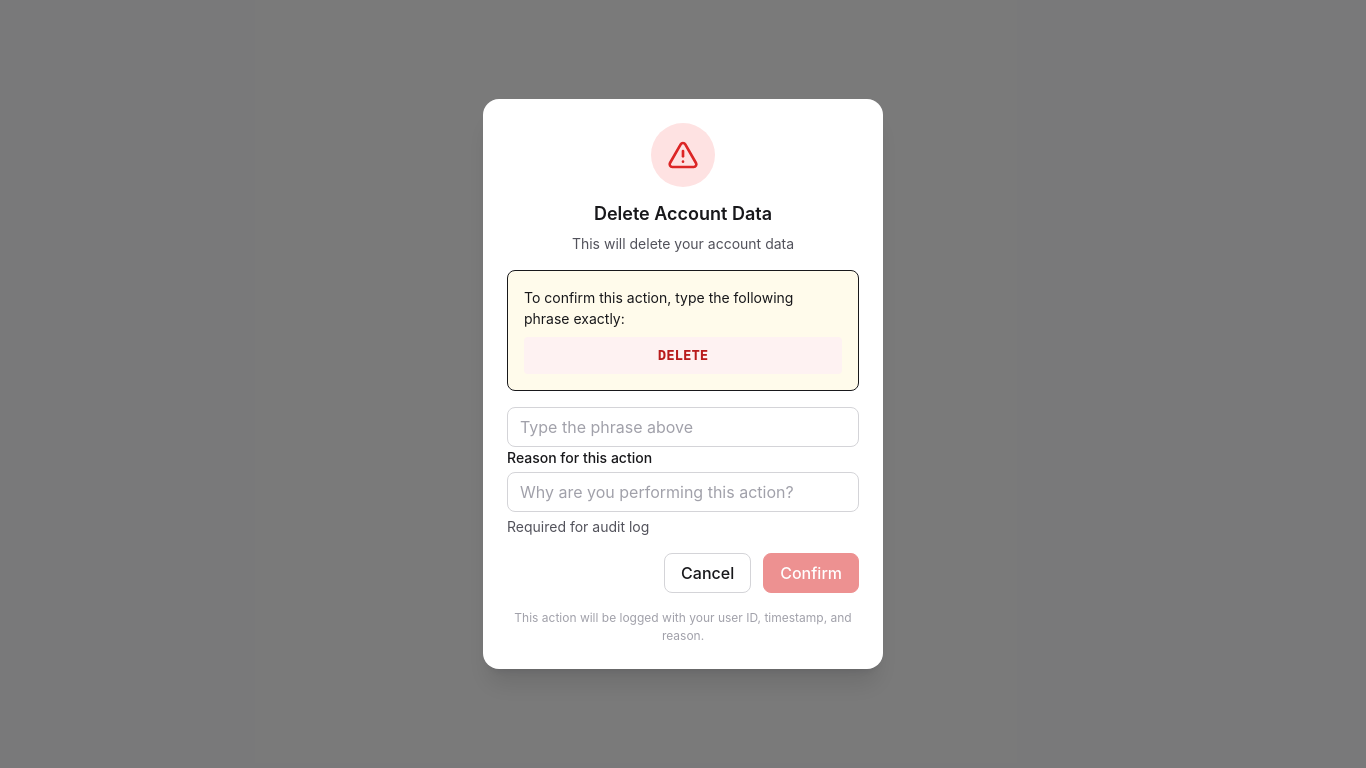
Test case: Sprint 12: Cleanup UI - Dangerous Operations › SCENARIO: User attempts to delete synced posts › should require reason for audit trail when performing dangerous action
# Type correct phrase but no reason
Step 1. Type "DELETE" into the field with placeholder "Type the phrase above" → (683, 427), box [507,407,859,447]
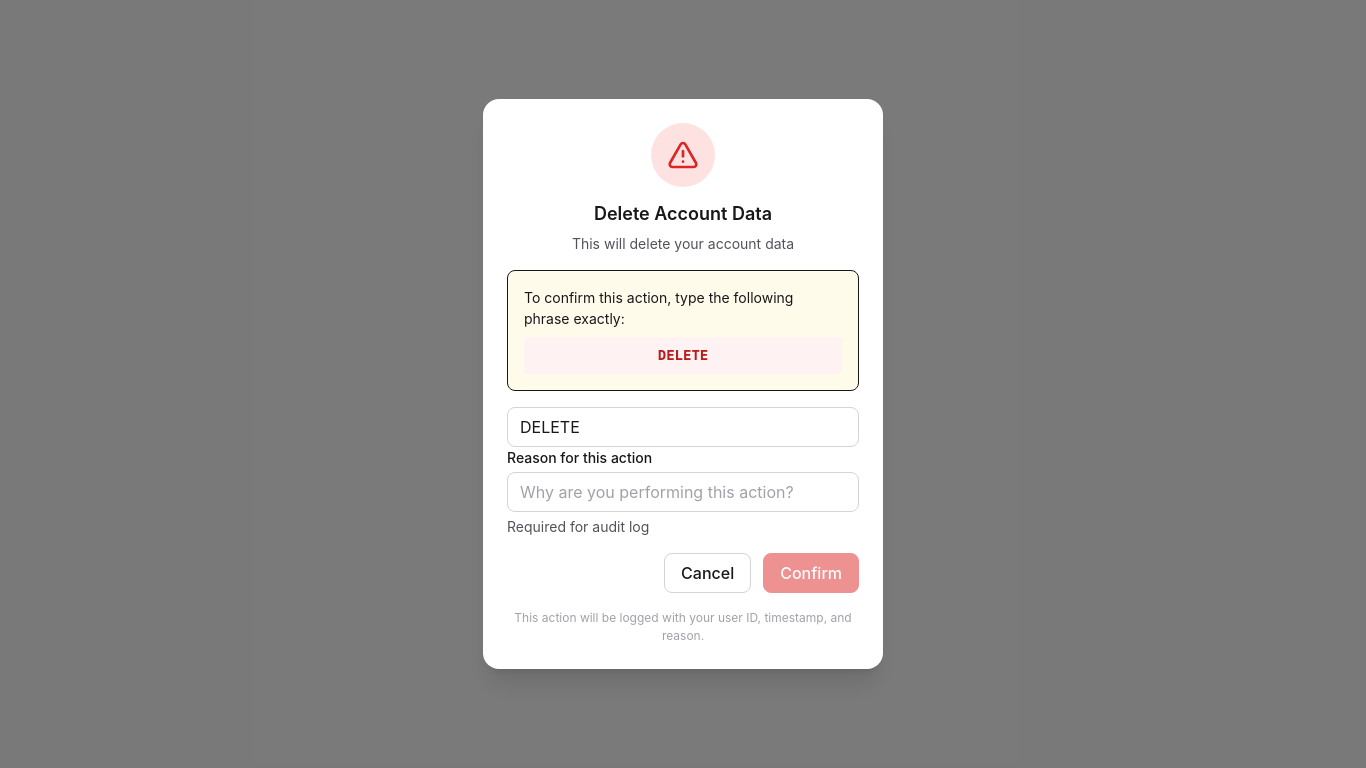
Expected: the button "Confirm" is disabled, [763,553,859,593]
# Add reason
Step 2. Type "Cleaning up test data" into the field with placeholder "Why are you performing this action?" → (683, 492), box [507,472,859,512]
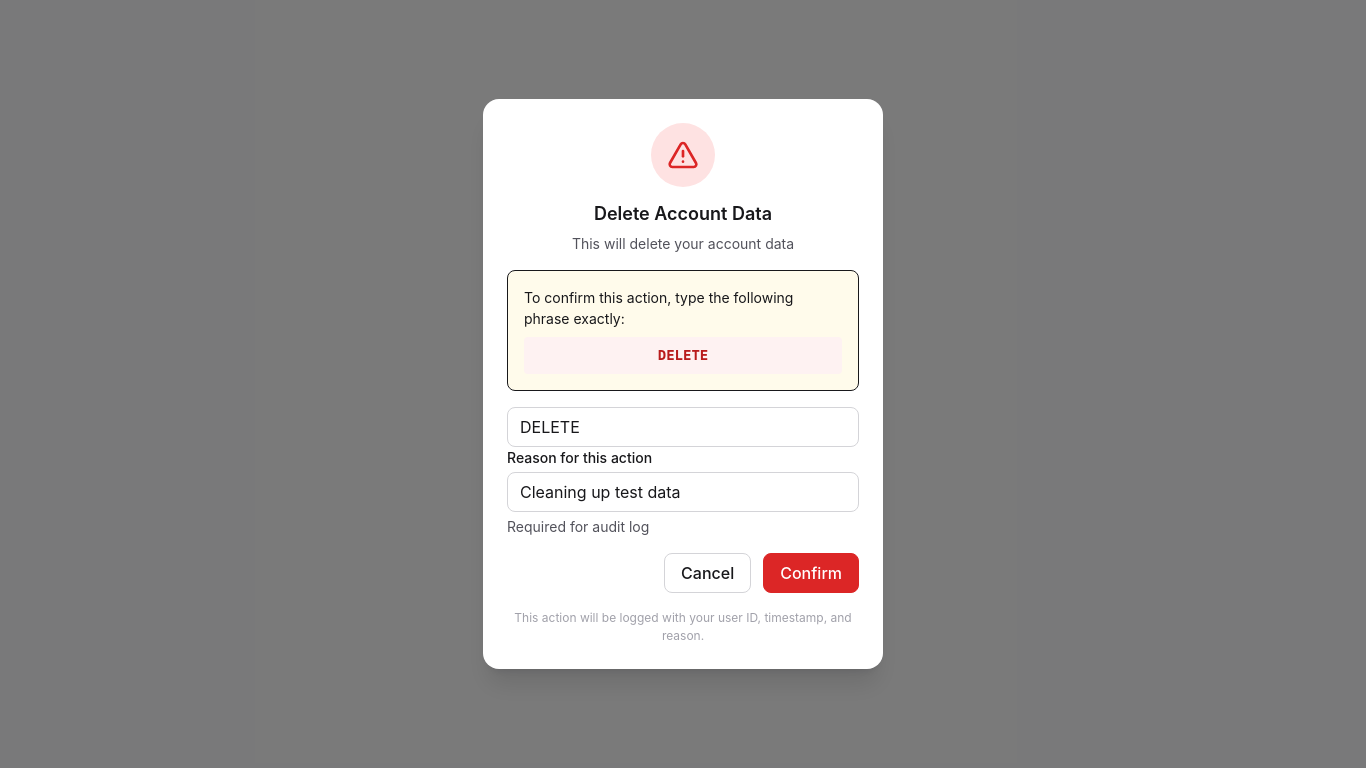
Result: the button "Confirm" is enabled at [763,553,859,593]
